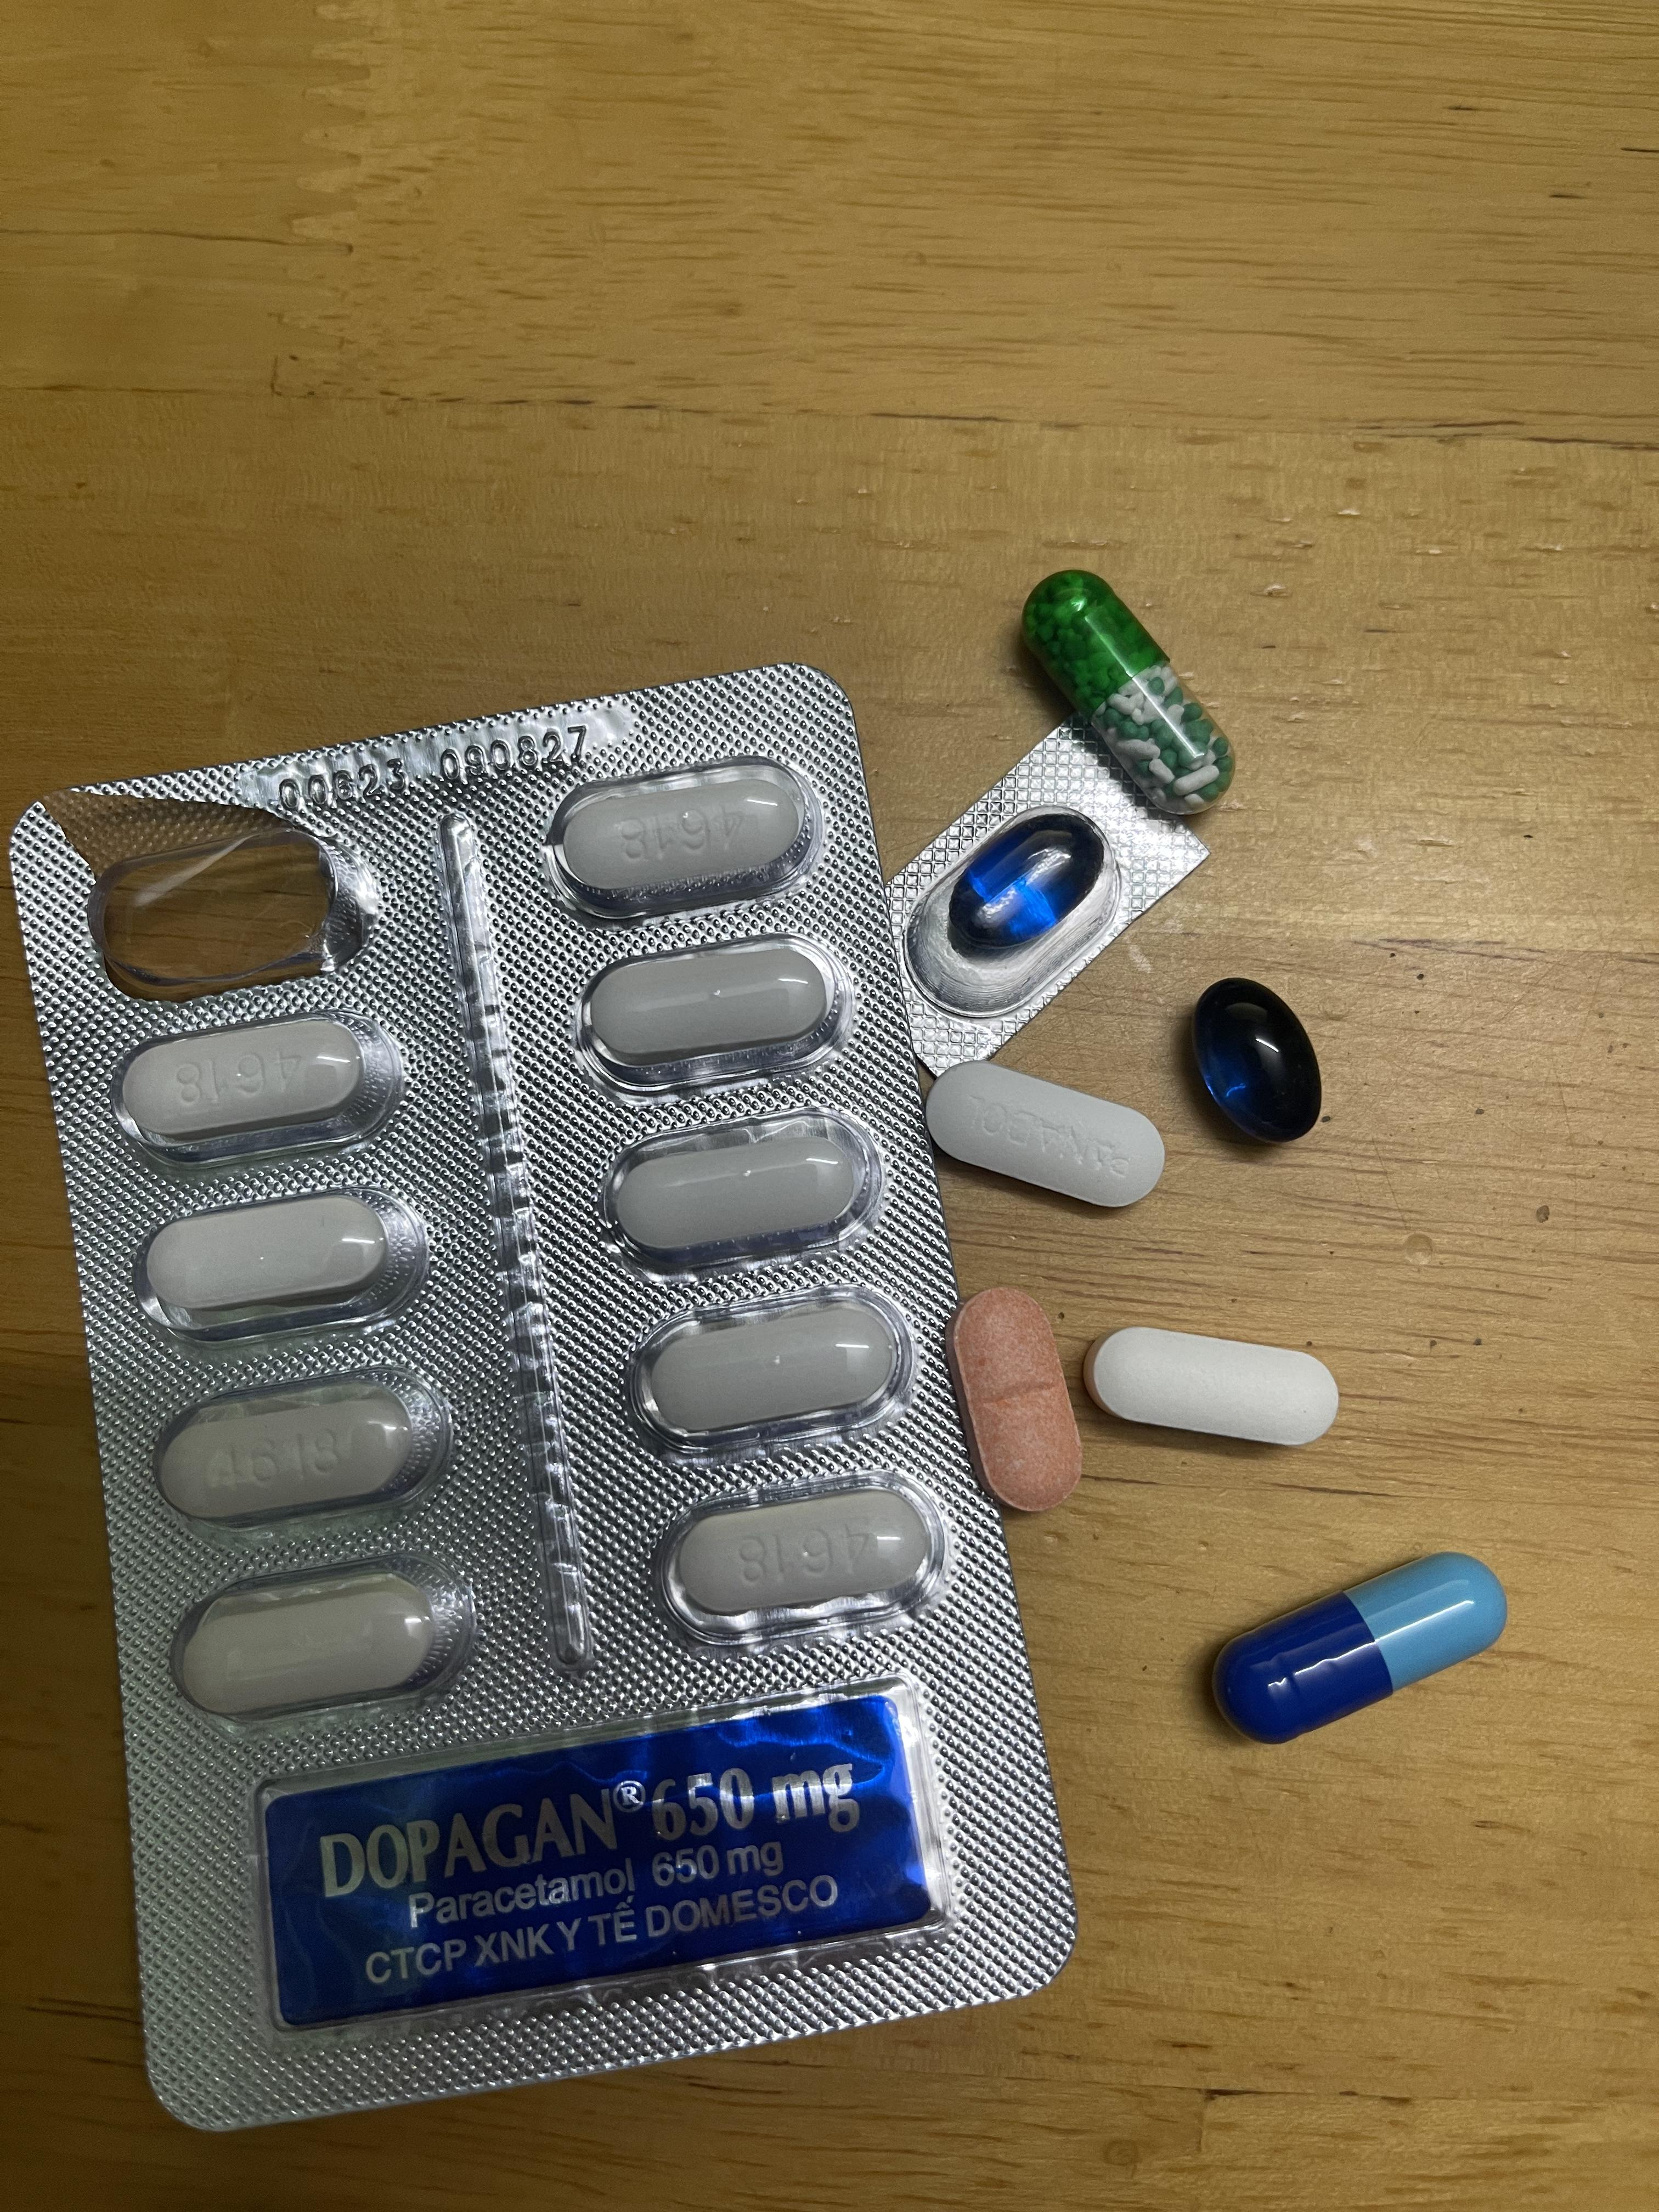Lincomyxin_500mg: (1192, 977, 1324, 1144), (946, 819, 1096, 958)
Loratadine_10mg: (948, 1287, 1084, 1510)
Paracetamol_350mg: (932, 1069, 1162, 1205)
Paracetamol_500mg: (167, 1561, 471, 1716), (150, 1376, 446, 1526), (659, 1482, 934, 1641), (633, 1299, 892, 1447), (139, 1190, 411, 1327), (610, 1125, 859, 1263), (117, 1017, 369, 1148), (591, 948, 831, 1068), (1087, 1331, 1335, 1447), (563, 773, 795, 894)
Paracetamol_650mg: (1026, 575, 1229, 812)
pill: (1220, 1555, 1499, 1738)
